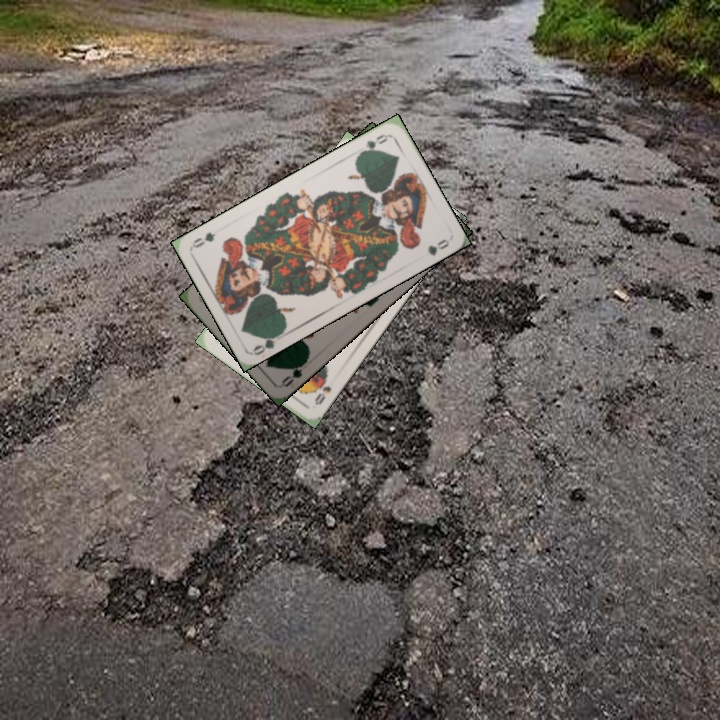GO: (278, 355, 311, 390), (249, 328, 286, 358), (355, 130, 391, 158)
SO: (310, 371, 334, 408)
